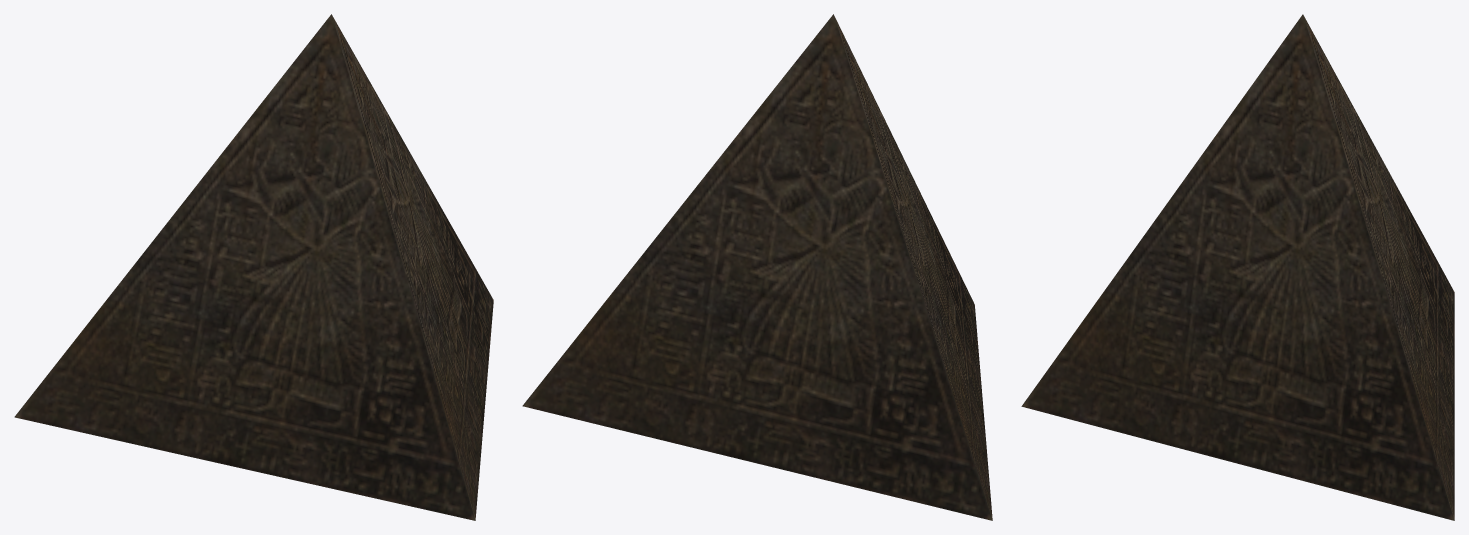
File: ancient_artifact_mx_1.obj
3 renders of one model, left to right at view 1: azimuth 30°, elevation 25°; view 2: azimuth 150°, elevation 25°; view 3: azimuth 270°, elevation 25°, orthographic. The views are drawn at different scales.
Visible parts, largest first — view 1: ancient_artifact_mx_1; view 2: ancient_artifact_mx_1; view 3: ancient_artifact_mx_1.
Part boxes in pixels (left/top/right/bottom): ancient_artifact_mx_1: left=14, top=14, right=493, bottom=520; ancient_artifact_mx_1: left=522, top=14, right=992, bottom=520; ancient_artifact_mx_1: left=1021, top=14, right=1454, bottom=520.
Bounding box in the file's own units: 0.5 × 0.4 × 0.4.
